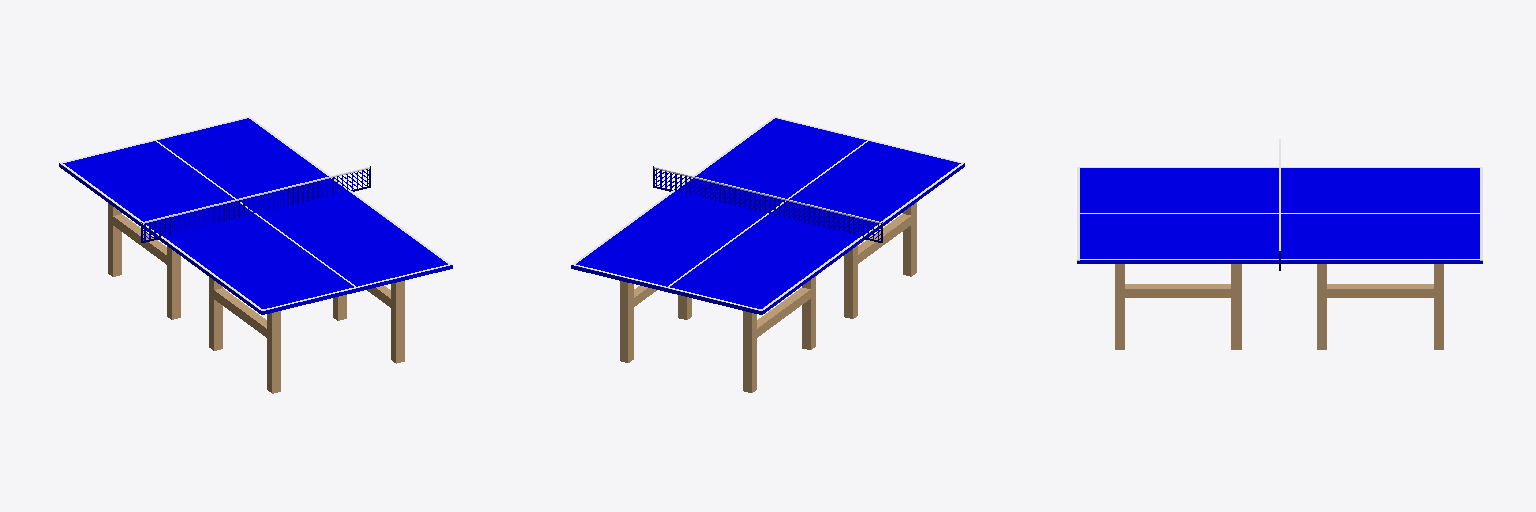
The model's file is TennisTable.obj.
The picture shows the model from 3 angles: view 1: azimuth 30°, elevation 25°; view 2: azimuth 150°, elevation 25°; view 3: azimuth 270°, elevation 25°; orthographic projection.
Parts seen in each view (by area): view 1: top, leg_up_4, leg_down_4, leg_down_3, con_4, leg_down_2, leg_down_1, con_3; view 2: top, leg_down_1, leg_up_1, leg_down_2, con_3, leg_down_4, leg_down_3, con_4; view 3: top, con_2, con_1, leg_up_2, leg_up_3, leg_up_1, leg_up_4.
Part boxes in pixels (left/top/right/bottom): top: left=59, top=118, right=452, bottom=314; leg_up_4: left=391, top=281, right=404, bottom=363; leg_down_4: left=267, top=311, right=280, bottom=393; leg_down_3: left=167, top=246, right=180, bottom=319; con_4: left=214, top=288, right=267, bottom=337; leg_down_2: left=209, top=277, right=222, bottom=350; leg_down_1: left=108, top=203, right=121, bottom=276; con_3: left=113, top=214, right=166, bottom=264; top: left=571, top=118, right=964, bottom=314; leg_down_1: left=743, top=311, right=756, bottom=392; leg_up_1: left=620, top=281, right=633, bottom=362; leg_down_2: left=844, top=245, right=857, bottom=318; con_3: left=757, top=288, right=810, bottom=337; leg_down_4: left=903, top=202, right=916, bottom=276; leg_down_3: left=802, top=276, right=815, bottom=349; con_4: left=858, top=214, right=911, bottom=263; top: left=1077, top=168, right=1482, bottom=263; con_2: left=1124, top=284, right=1231, bottom=297; con_1: left=1327, top=284, right=1433, bottom=297; leg_up_2: left=1231, top=264, right=1241, bottom=349; leg_up_3: left=1317, top=264, right=1326, bottom=349; leg_up_1: left=1434, top=264, right=1443, bottom=349; leg_up_4: left=1115, top=264, right=1124, bottom=349.
Bounding box in the file's own units: 183 × 93.43 × 280.